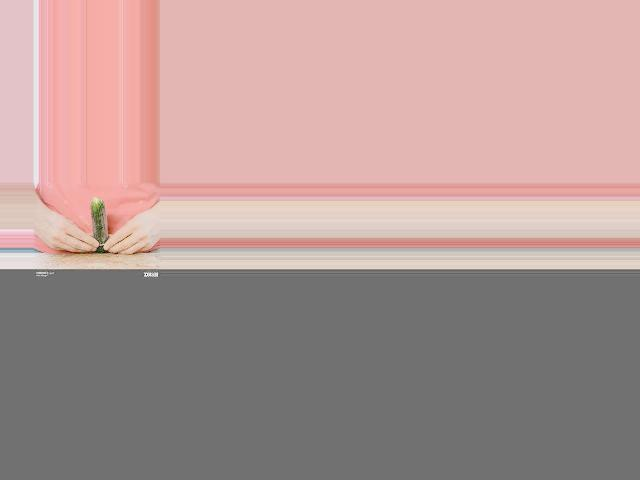cucumber: (89, 198, 107, 253)
